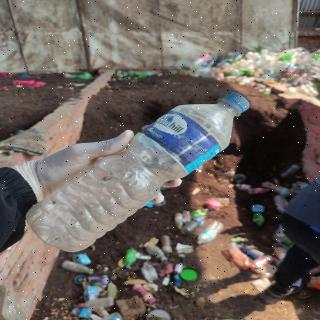Plastic-bottle: (23, 89, 254, 255)
